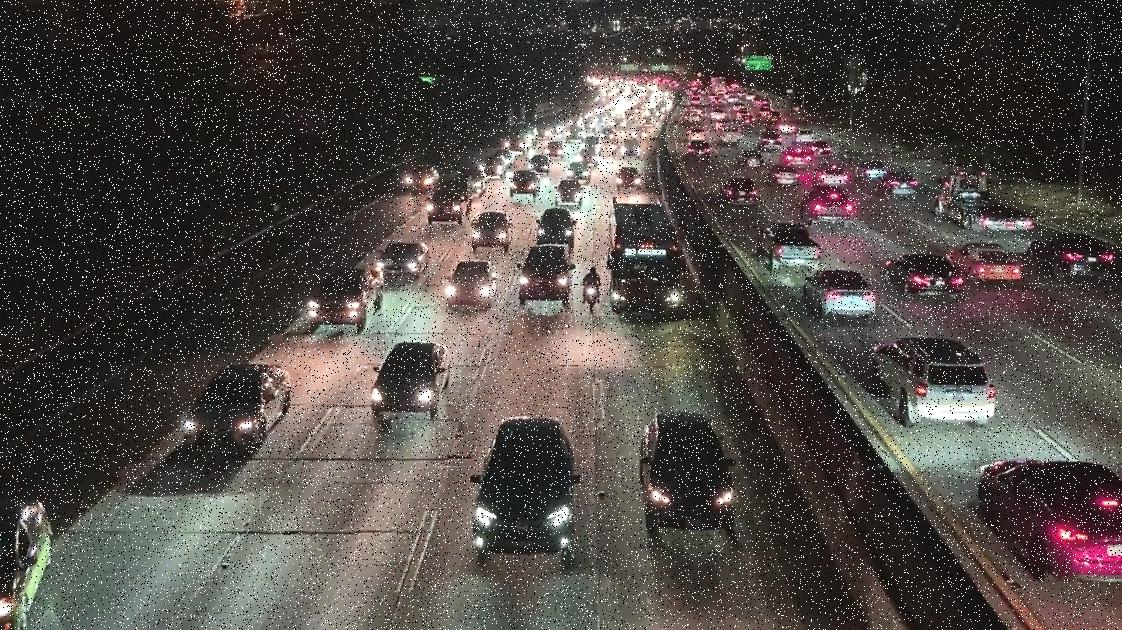bike: (579, 265, 604, 318)
bus: (606, 197, 688, 318)
car: (460, 406, 587, 568), (974, 448, 1122, 586), (632, 406, 744, 539), (868, 331, 1005, 437), (175, 361, 297, 457), (364, 335, 452, 430), (0, 473, 46, 630), (307, 261, 389, 334), (801, 268, 880, 323), (1025, 232, 1114, 278), (513, 245, 577, 308), (883, 250, 965, 297), (753, 221, 825, 272), (945, 242, 1026, 286), (441, 257, 504, 310), (376, 238, 438, 280), (797, 189, 856, 229), (470, 210, 515, 253), (533, 206, 578, 245), (875, 171, 922, 200), (719, 175, 762, 206), (394, 162, 436, 190), (812, 163, 849, 189), (765, 164, 803, 188), (552, 180, 586, 206), (853, 158, 887, 181), (511, 171, 542, 195), (683, 138, 713, 160), (616, 166, 643, 190), (739, 148, 767, 169)
truck: (932, 169, 1035, 239), (424, 178, 476, 225)
